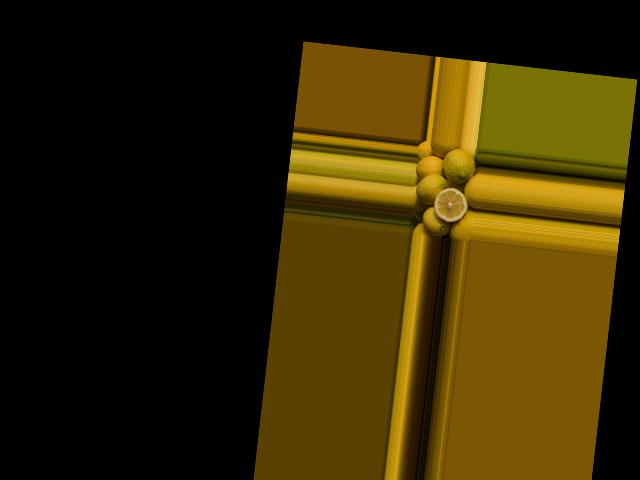lemon: (421, 208, 450, 236)
